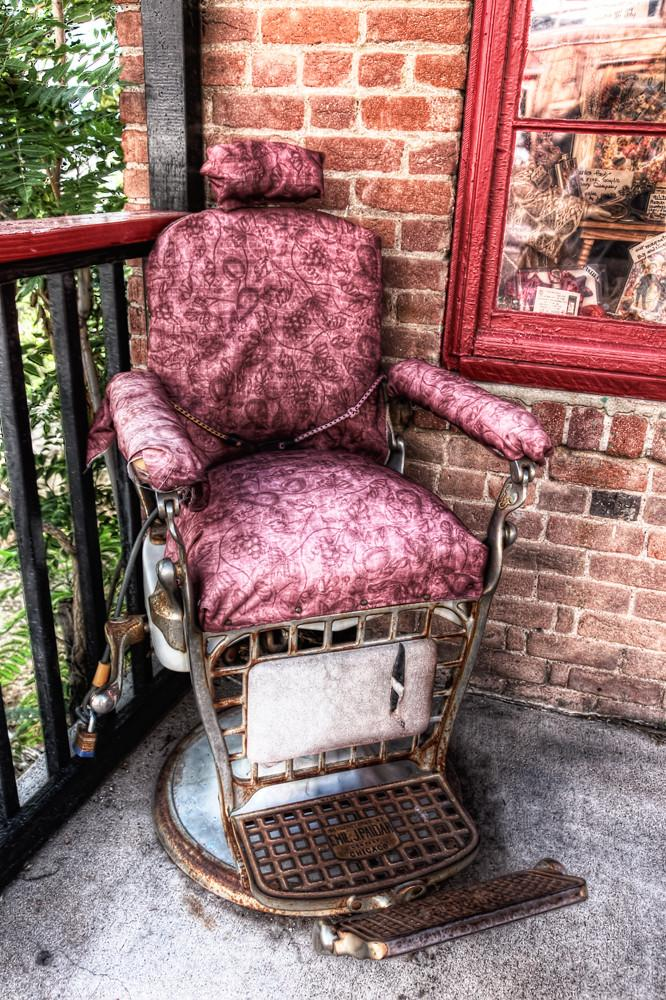chair: (85, 141, 587, 960)
